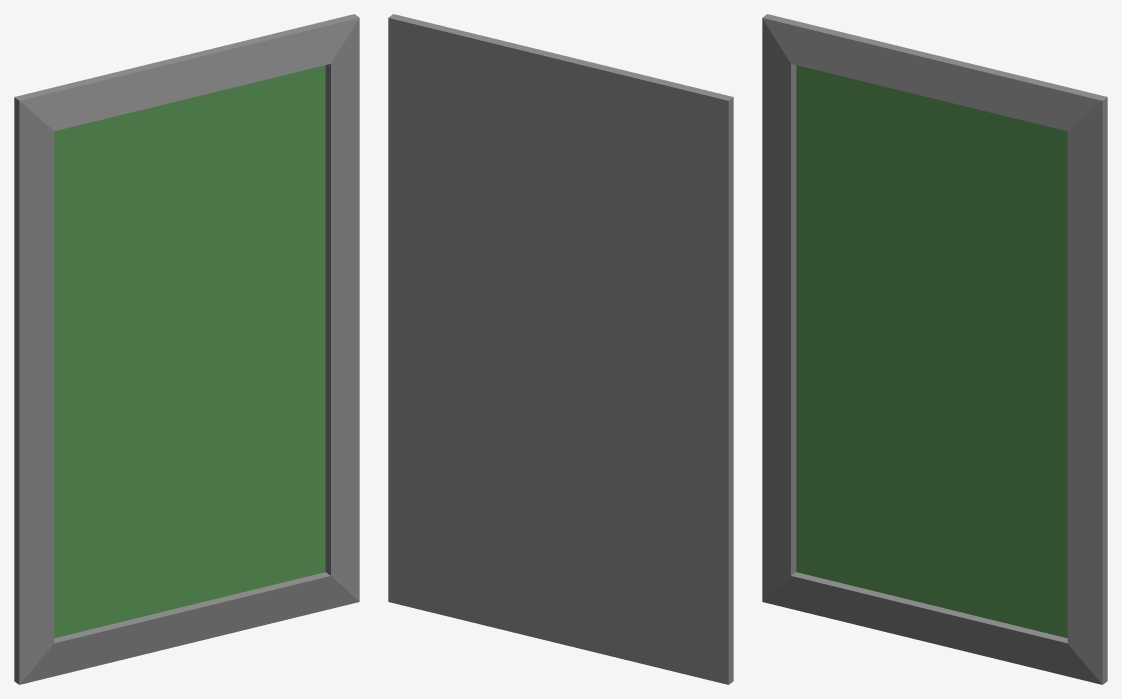
File: WallFrame_Portrailt.FBX
3 renders of one model, left to right at view 1: azimuth 30°, elevation 25°; view 2: azimuth 150°, elevation 25°; view 3: azimuth 330°, elevation 25°, orthographic.
Visible parts, largest first — view 1: Frame_Wall_Portrait; view 2: Frame_Wall_Portrait; view 3: Frame_Wall_Portrait.
Part boxes in pixels (bbox=[...]): Frame_Wall_Portrait: bbox=[14, 14, 359, 684]; Frame_Wall_Portrait: bbox=[388, 14, 733, 684]; Frame_Wall_Portrait: bbox=[762, 14, 1107, 684].
Size of the model in its own units: 28.22 by 46.27 by 1.19.
